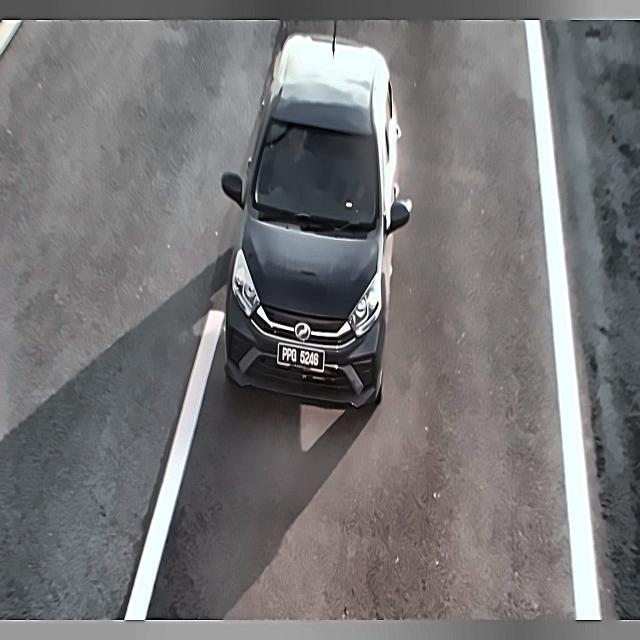car: (274, 338, 330, 378)
